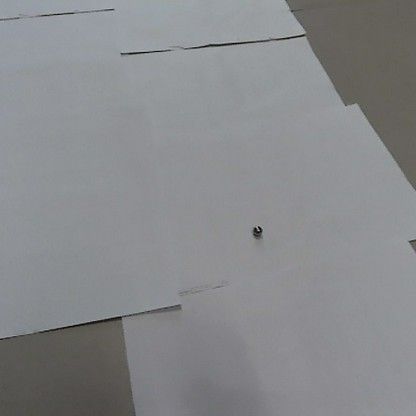ironball: (249, 223, 263, 238)
